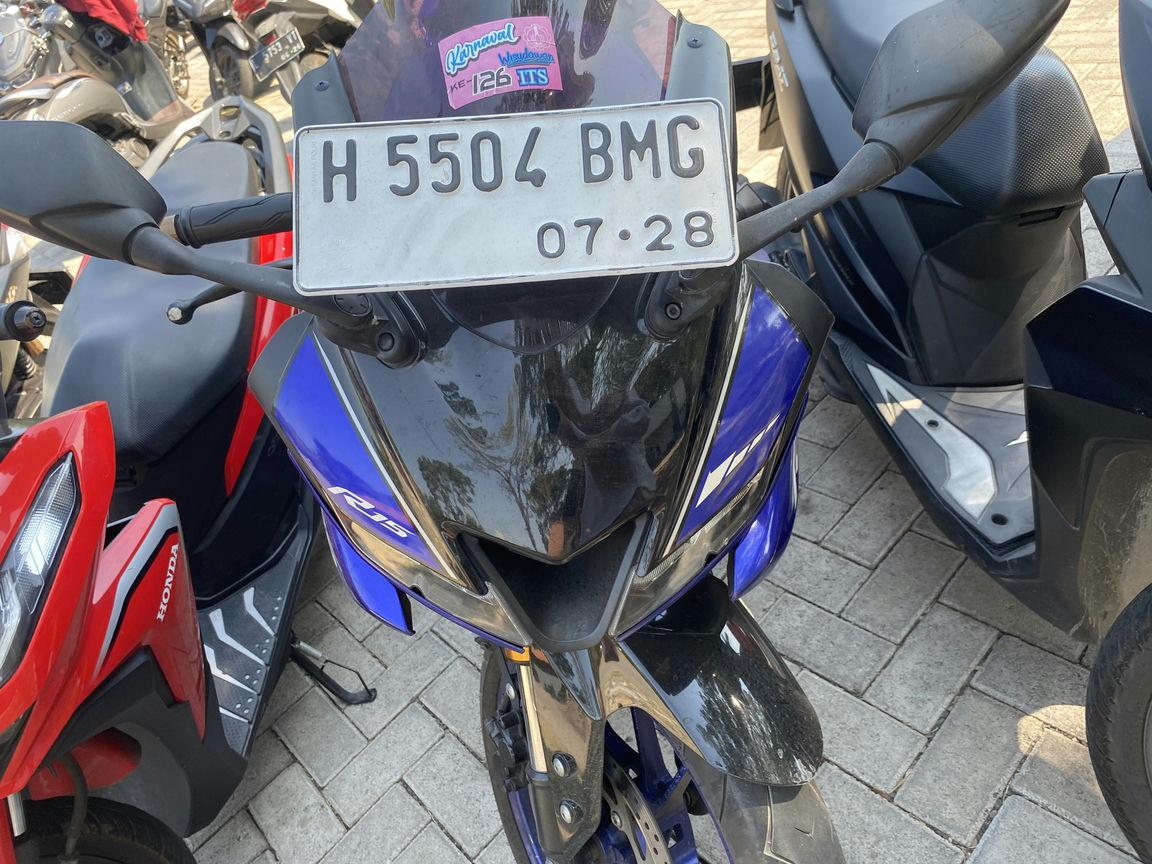plat: (292, 99, 738, 295)
